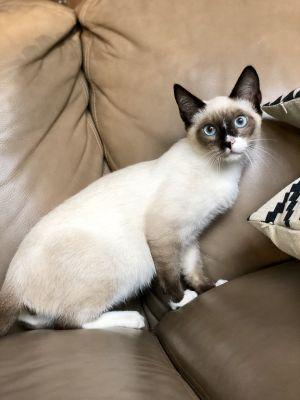siamese: (168, 58, 277, 174)
